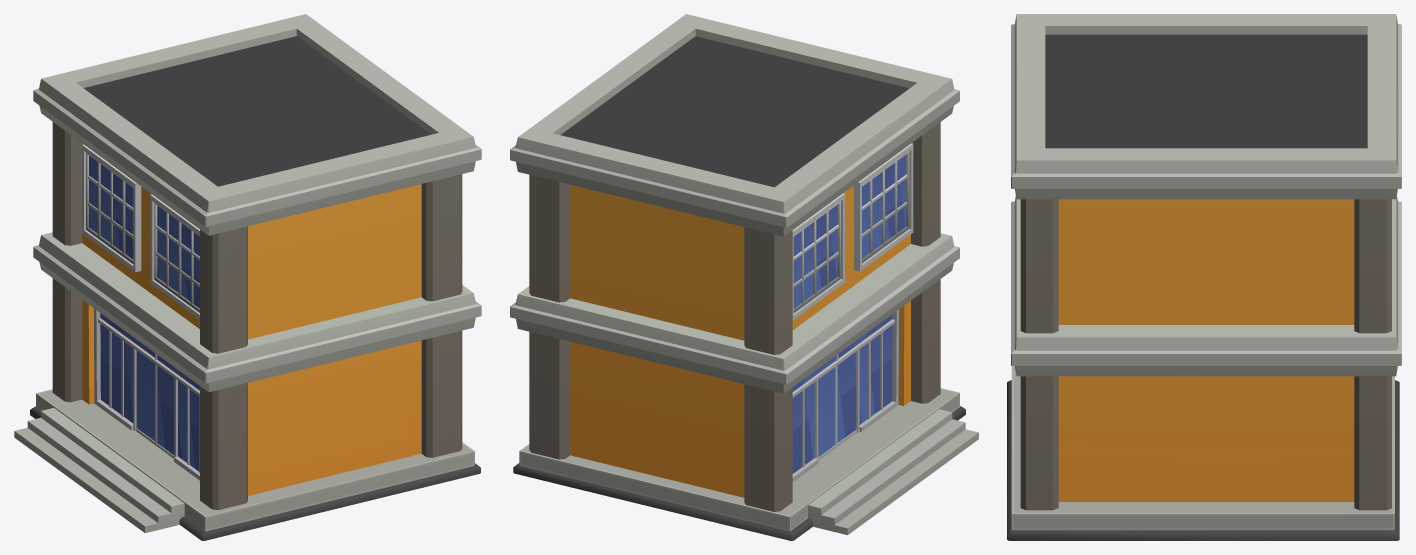
File: Building_9_2_HH.fbx
The picture shows the model from 3 angles, left to right: view 1: azimuth 30°, elevation 25°; view 2: azimuth 150°, elevation 25°; view 3: azimuth 270°, elevation 25°; orthographic projection. The views are drawn at different scales.
Visible parts, largest first — view 1: Building_9_2_HH; view 2: Building_9_2_HH; view 3: Building_9_2_HH.
Boxes of the visible parts, x1=… form: Building_9_2_HH: x1=14, y1=14, x2=481, y2=540; Building_9_2_HH: x1=510, y1=14, x2=978, y2=540; Building_9_2_HH: x1=1007, y1=14, x2=1401, y2=540.
Bounding box in the file's own units: 947 × 958 × 906.
